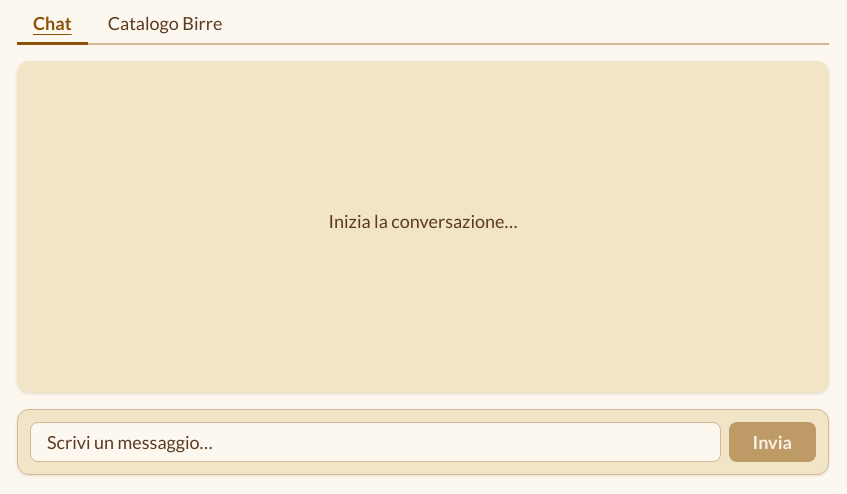
ChatPage integration › includes conversationId from first response in the follow-up request
The width and height of the screenshot is (847, 494).
First message
Type "First question" into the field at (375, 442), box top-left (30, 422), bottom-right (720, 462)
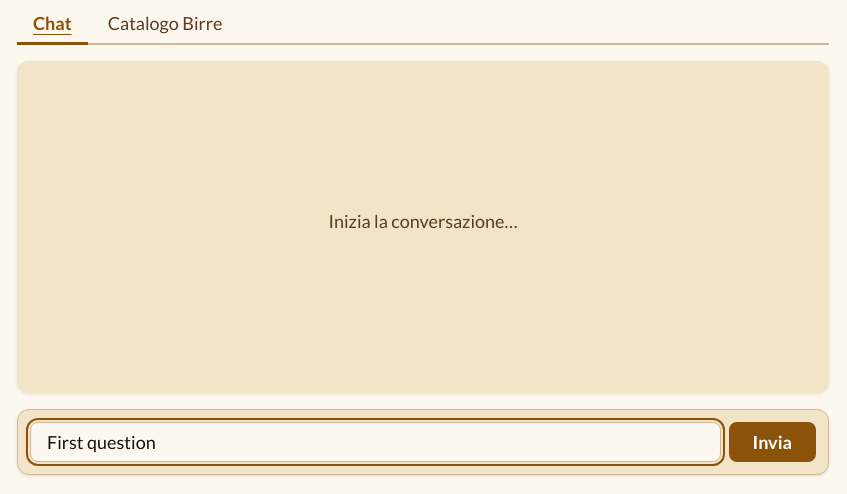
Click the button "Invia" at (772, 442), box top-left (728, 422), bottom-right (816, 462)
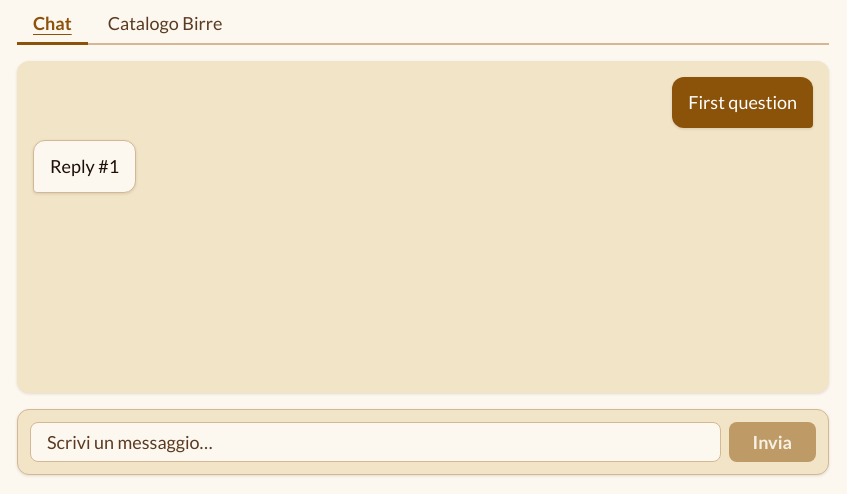
Now the text "Reply #1" is shown, box top-left (33, 140), bottom-right (136, 193)
Second message — should send conversationId from first response
Type "Follow-up" into the field at (375, 442), box top-left (30, 422), bottom-right (720, 462)
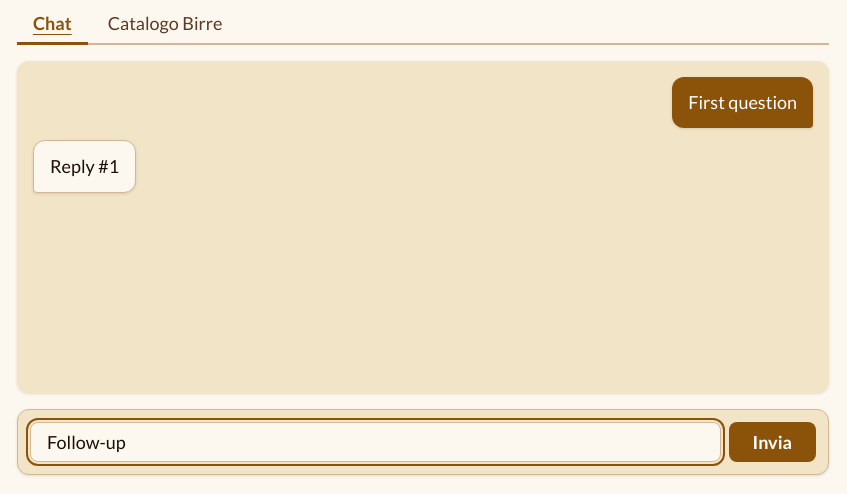
Click the button "Invia" at (772, 442), box top-left (728, 422), bottom-right (816, 462)
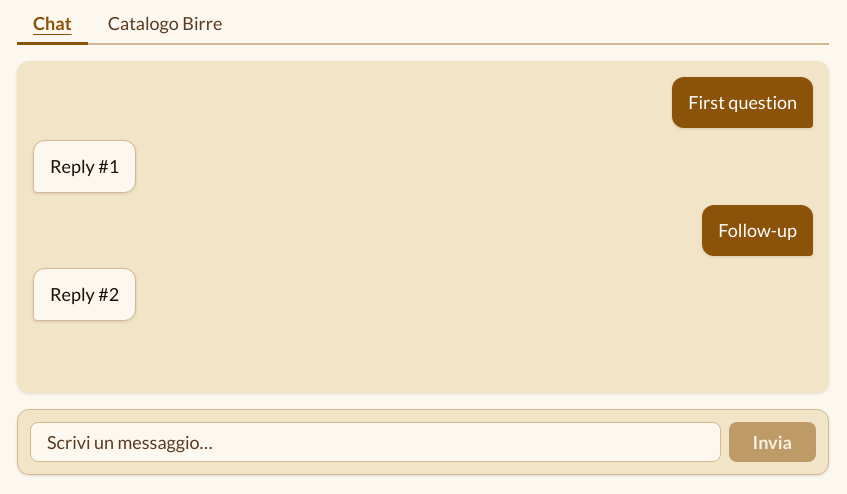
Now the text "Reply #2" is shown, box top-left (33, 268), bottom-right (136, 321)
